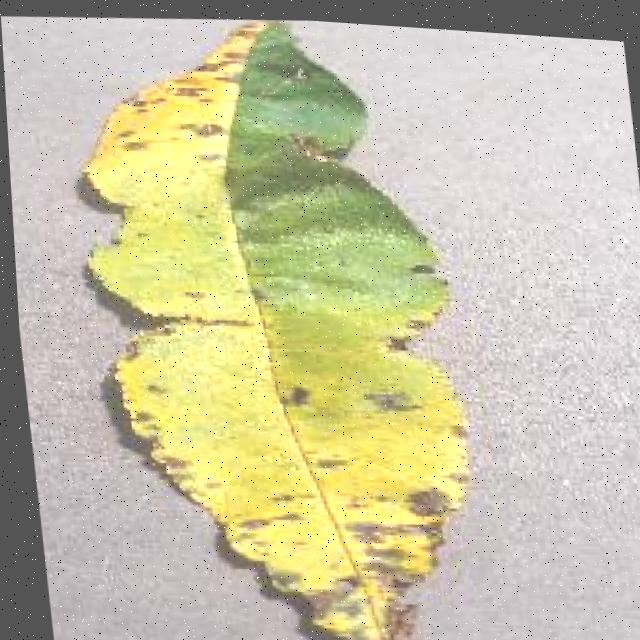Bacterial_spot: (44, 3, 509, 640)
